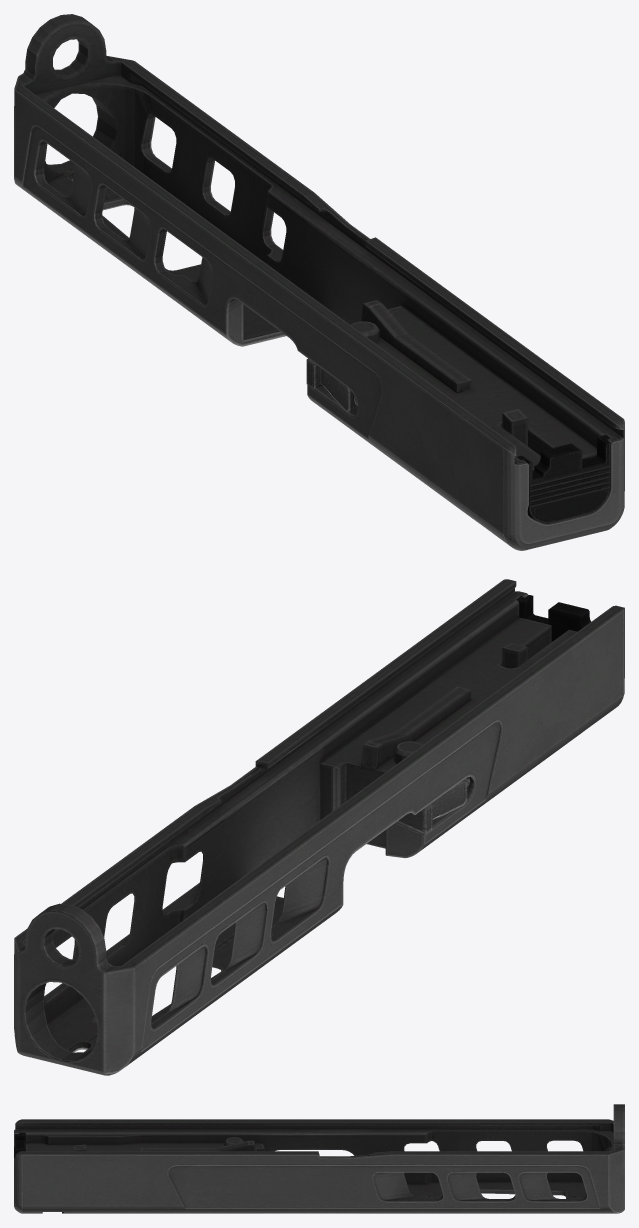
3 renders of one model, top to bottom at view 1: azimuth 30°, elevation 25°; view 2: azimuth 150°, elevation 25°; view 3: azimuth 270°, elevation 25°, orthographic. The views are drawn at different scales.
Visible parts, largest first — view 1: TW_5a6f5f078dc32e00094b97dd_PZ_Import; view 2: TW_5a6f5f078dc32e00094b97dd_PZ_Import; view 3: TW_5a6f5f078dc32e00094b97dd_PZ_Import.
Boxes of the visible parts, x1,y1,x2,y2 form: TW_5a6f5f078dc32e00094b97dd_PZ_Import: (14,14,624,550); TW_5a6f5f078dc32e00094b97dd_PZ_Import: (14,579,624,1075); TW_5a6f5f078dc32e00094b97dd_PZ_Import: (14,1104,624,1213).
Size of the model in its own units: 0.0144 by 0.1058 by 0.0181.
Materials: 1 (1 with a texture image).
